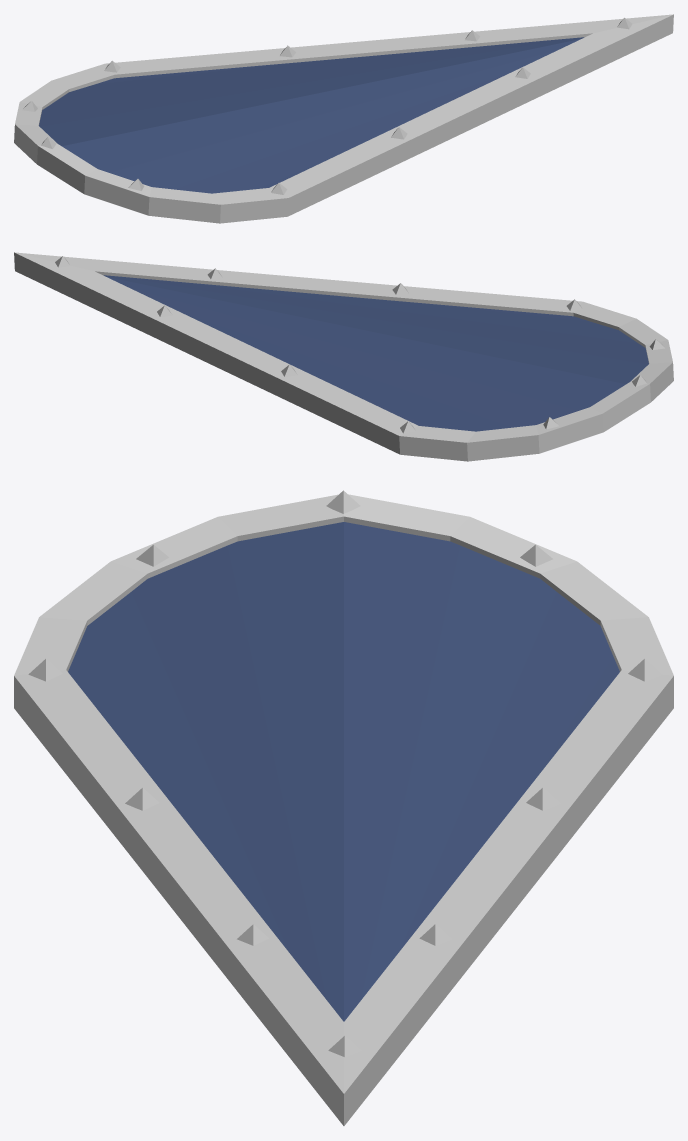
File: Shield_3_b_bl.fbx
3 renders of one model, top to bottom at view 1: azimuth 30°, elevation 25°; view 2: azimuth 150°, elevation 25°; view 3: azimuth 270°, elevation 25°, orthographic. The views are drawn at different scales.
Visible parts, largest first — view 1: Circle.338, Circle.337; view 2: Circle.338, Circle.337; view 3: Circle.338, Circle.337.
Boxes of the visible parts, x1,y1,x2,y2 form: Circle.338: (39, 37, 584, 193); Circle.337: (14, 14, 673, 223); Circle.338: (103, 275, 648, 431); Circle.337: (14, 252, 673, 461); Circle.338: (68, 522, 619, 1021); Circle.337: (14, 494, 673, 1125).
Size of the model in its own units: 148 by 17.7 by 74.
